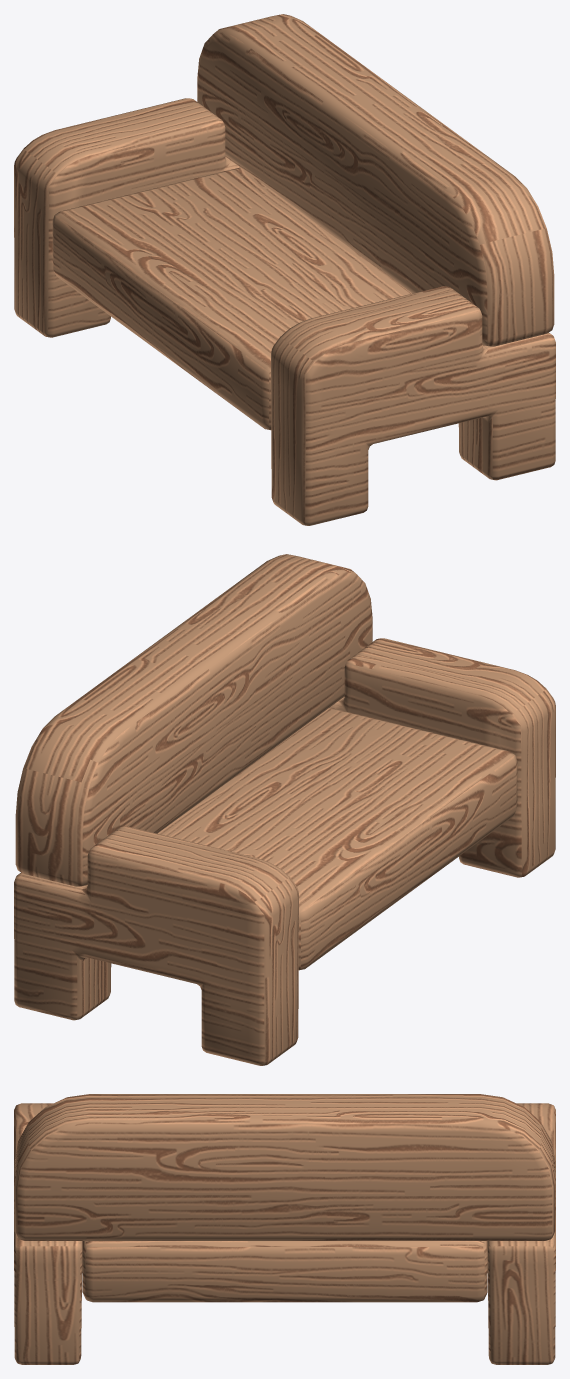
The model's file is 03 Bench.fbx.
The picture shows the model from 3 angles, top to bottom: view 1: azimuth 30°, elevation 25°; view 2: azimuth 150°, elevation 25°; view 3: azimuth 270°, elevation 25°; orthographic projection. The views are drawn at different scales.
Visible parts, largest first — view 1: Cube.003; view 2: Cube.003; view 3: Cube.003.
Part boxes in pixels (<box>): Cube.003: <box>14,14,555,525</box>; Cube.003: <box>14,554,555,1065</box>; Cube.003: <box>14,1094,555,1364</box>.
Bounding box in the file's own units: 100 × 100 × 200.
Materials: 1 (1 with a texture image).
